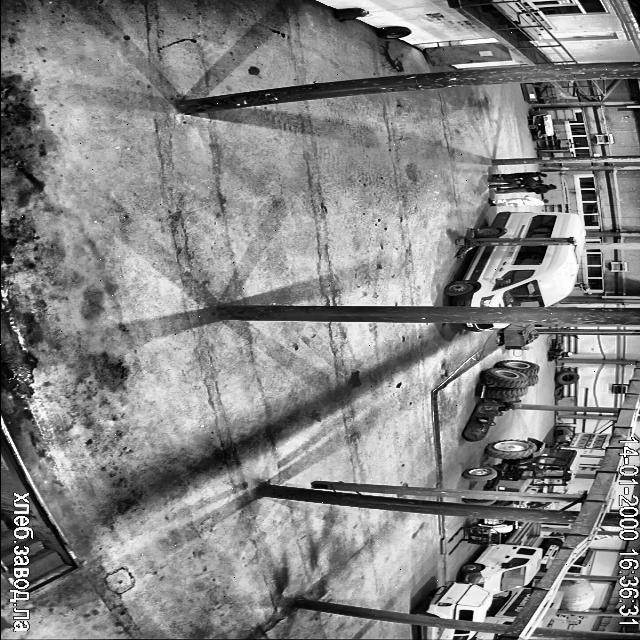class4: (489, 196, 548, 206), (497, 184, 556, 194), (489, 177, 540, 188), (492, 172, 546, 179)
class6: (462, 438, 579, 492), (463, 498, 512, 504), (524, 499, 526, 500)
class7: (462, 522, 541, 593), (412, 581, 492, 620), (484, 588, 532, 624), (535, 592, 562, 626), (422, 626, 475, 640), (567, 548, 595, 574), (540, 536, 563, 564), (476, 632, 500, 640)
tractor: (334, 8, 368, 21)
truck: (455, 228, 576, 256)
